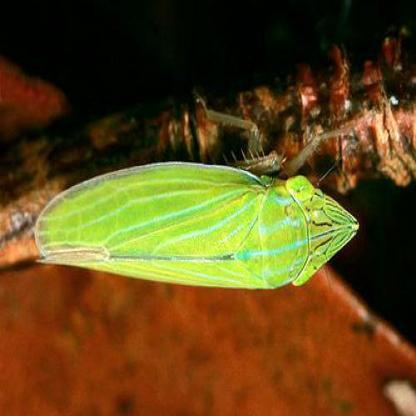green-leafhopper: (38, 159, 356, 290)
